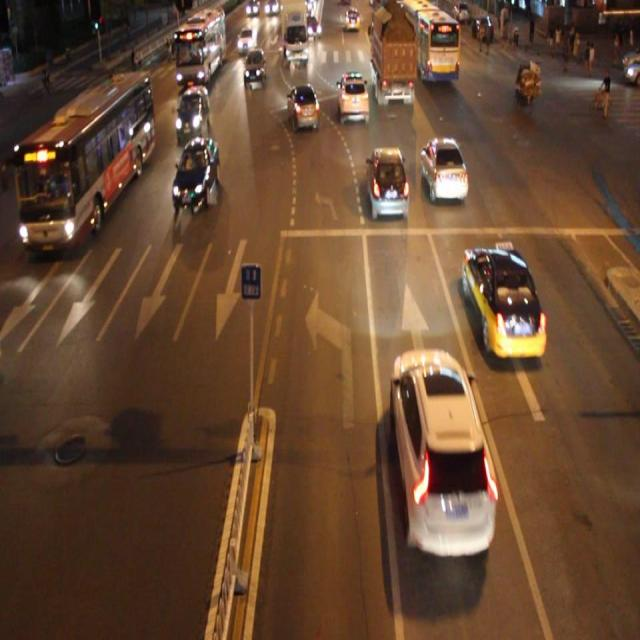bus: (372, 8, 414, 103)
car: (391, 348, 496, 554), (462, 247, 546, 357), (173, 136, 220, 210), (422, 135, 467, 203), (369, 144, 410, 217), (176, 85, 210, 140), (336, 74, 370, 124), (288, 82, 319, 131)
van: (16, 70, 149, 251)
